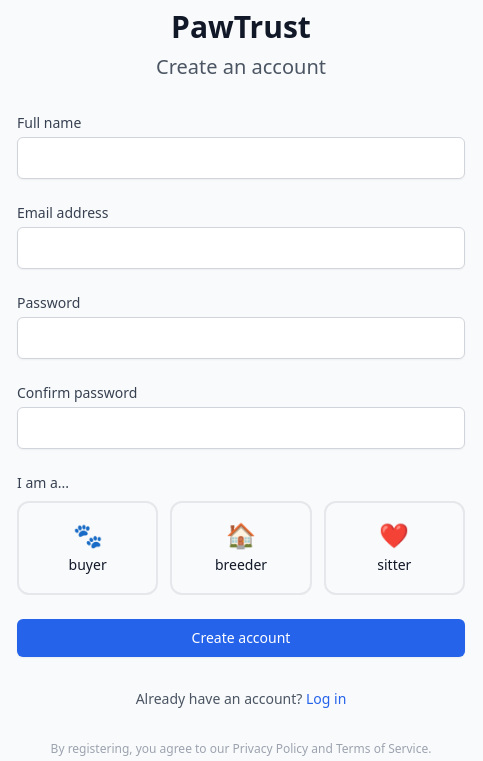
RegisterPage › shows password mismatch error
Step 1. Type "password123" into the password field labelled "Password" → coordinates (241, 338), box left=17, top=317, right=465, bottom=359
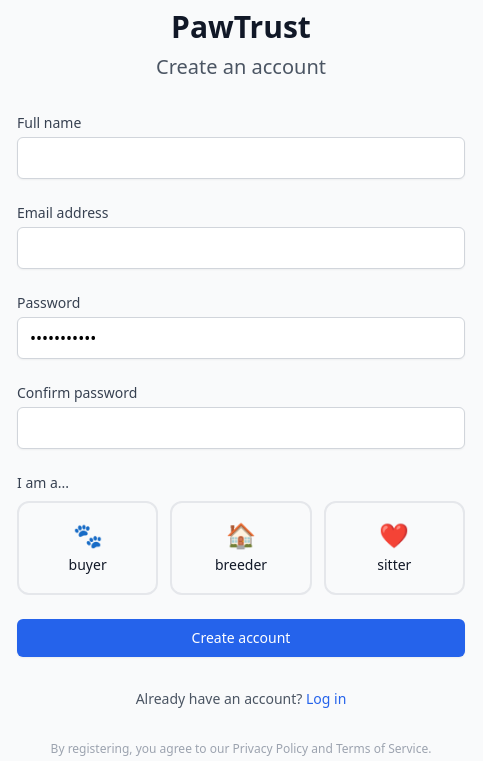
Step 2. Type "different999" into the password field labelled "Confirm password" → coordinates (241, 428), box left=17, top=407, right=465, bottom=449
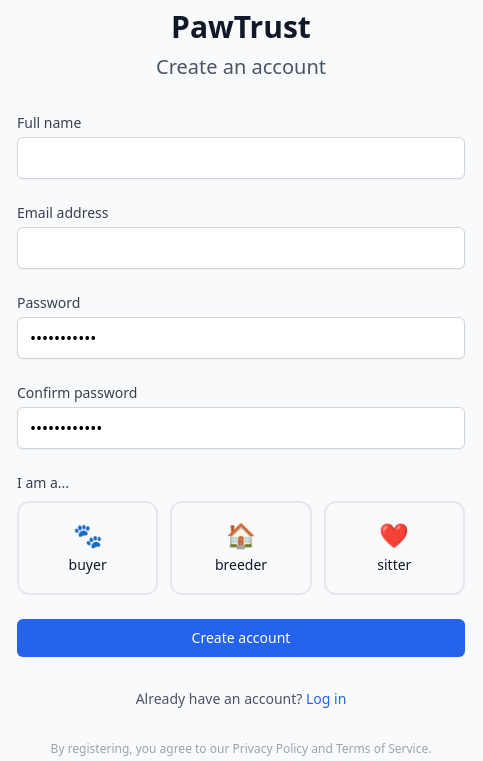
Step 3. Click the button "Create account" → coordinates (241, 638), box left=17, top=619, right=465, bottom=657
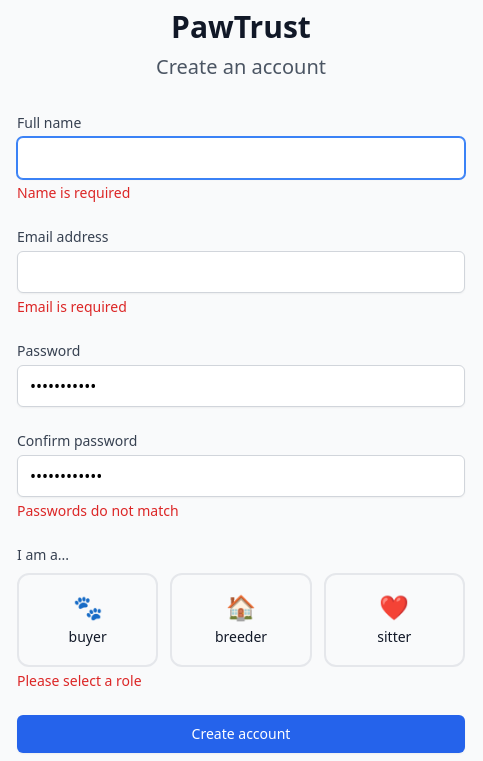
Check: the text "Passwords do not match" is shown, box left=17, top=501, right=179, bottom=520
